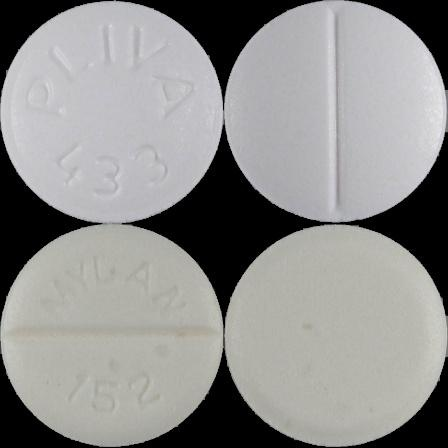55289-064: (0, 0, 224, 224)
